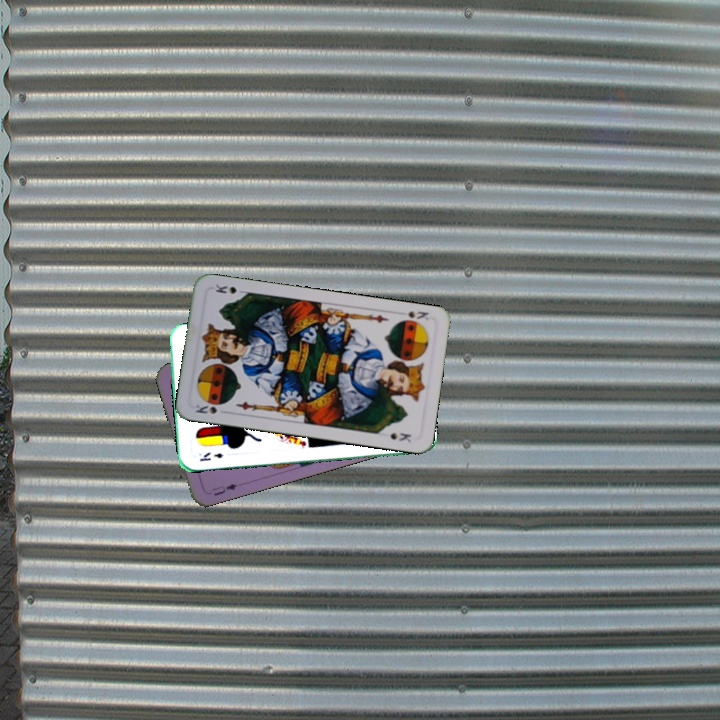EK: (196, 448, 226, 464)
EU: (208, 479, 239, 498)
SK: (192, 400, 220, 417), (404, 307, 431, 323)
